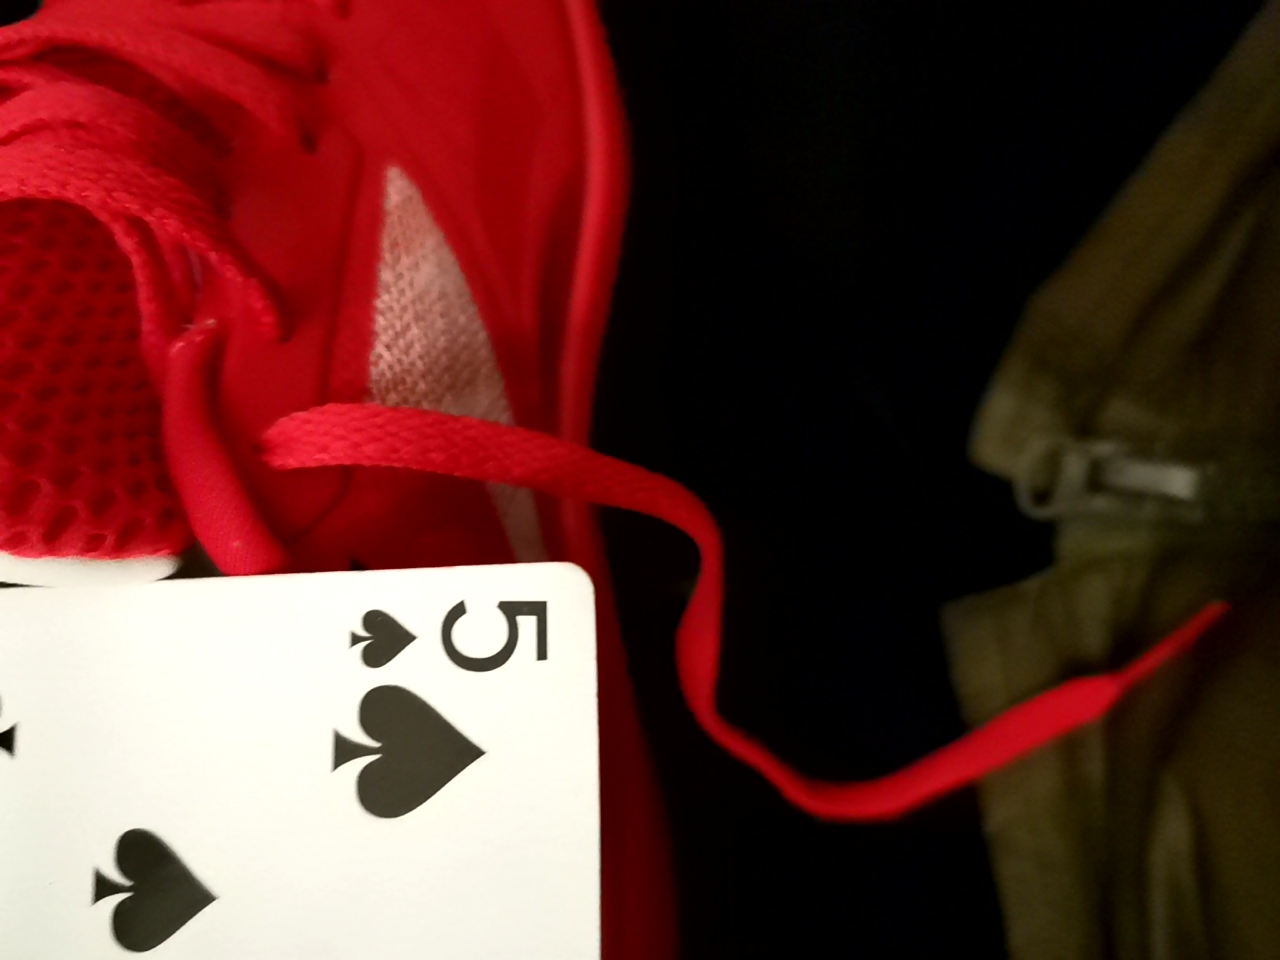ht 5: (5, 555, 615, 952)
